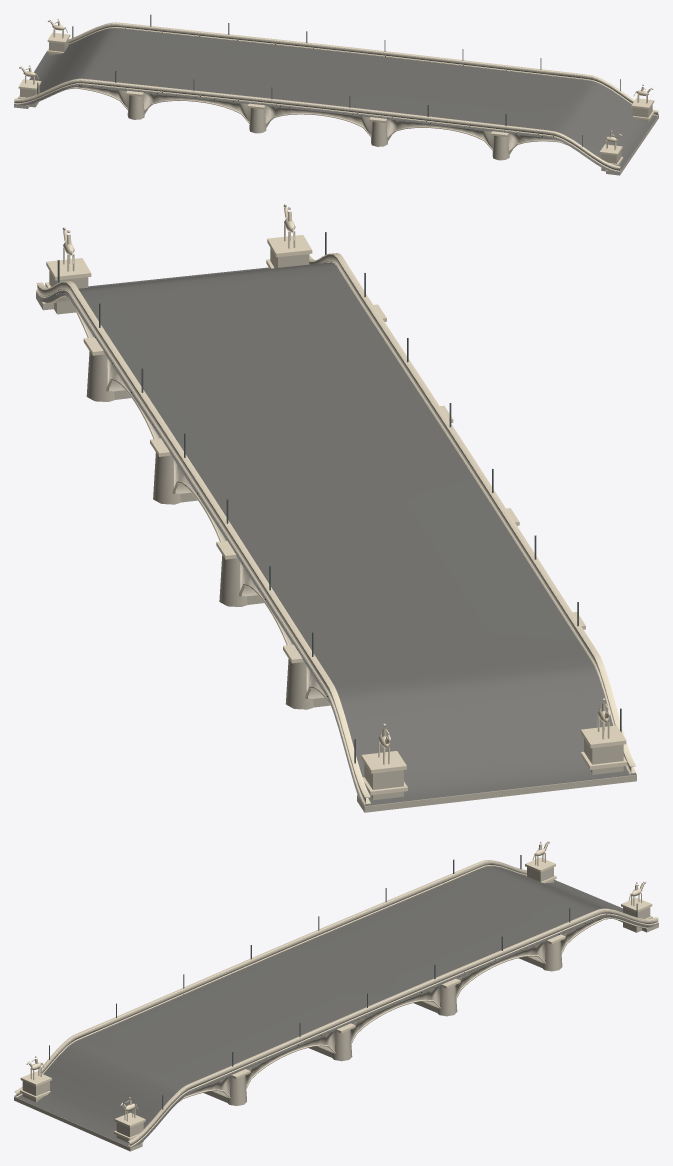
File: paris-pont-iena-far.glb
3 renders of one model, top to bottom at view 1: azimuth 30°, elevation 25°; view 2: azimuth 150°, elevation 25°; view 3: azimuth 270°, elevation 25°, orthographic. The views are drawn at different scales.
Parts seen in each view (by area): view 1: paris-pont-iena-deck, paris-pont-iena-stone, paris-pont-iena-trim, paris-pont-iena-rail; view 2: paris-pont-iena-deck, paris-pont-iena-trim, paris-pont-iena-stone, paris-pont-iena-rail; view 3: paris-pont-iena-deck, paris-pont-iena-stone, paris-pont-iena-trim.
Boxes of the visible parts, box(x1,y1,x2,y2) form: paris-pont-iena-deck: box(14, 28, 658, 174); paris-pont-iena-stone: box(14, 24, 658, 175); paris-pont-iena-trim: box(14, 19, 658, 171); paris-pont-iena-rail: box(37, 14, 620, 146); paris-pont-iena-deck: box(36, 262, 636, 806); paris-pont-iena-trim: box(36, 204, 636, 805); paris-pont-iena-stone: box(36, 248, 636, 812); paris-pont-iena-rail: box(57, 232, 621, 763); paris-pont-iena-deck: box(14, 866, 658, 1147); paris-pont-iena-stone: box(14, 861, 658, 1151); paris-pont-iena-trim: box(14, 841, 658, 1147).
Bounding box in the file's own units: 135 × 13.14 × 135.
